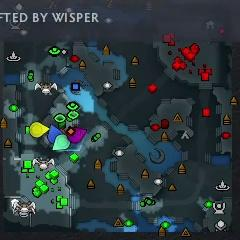p1: (48, 124, 63, 145)
p2: (51, 133, 71, 152)
p3: (66, 126, 86, 143)
p4: (30, 121, 50, 139)
